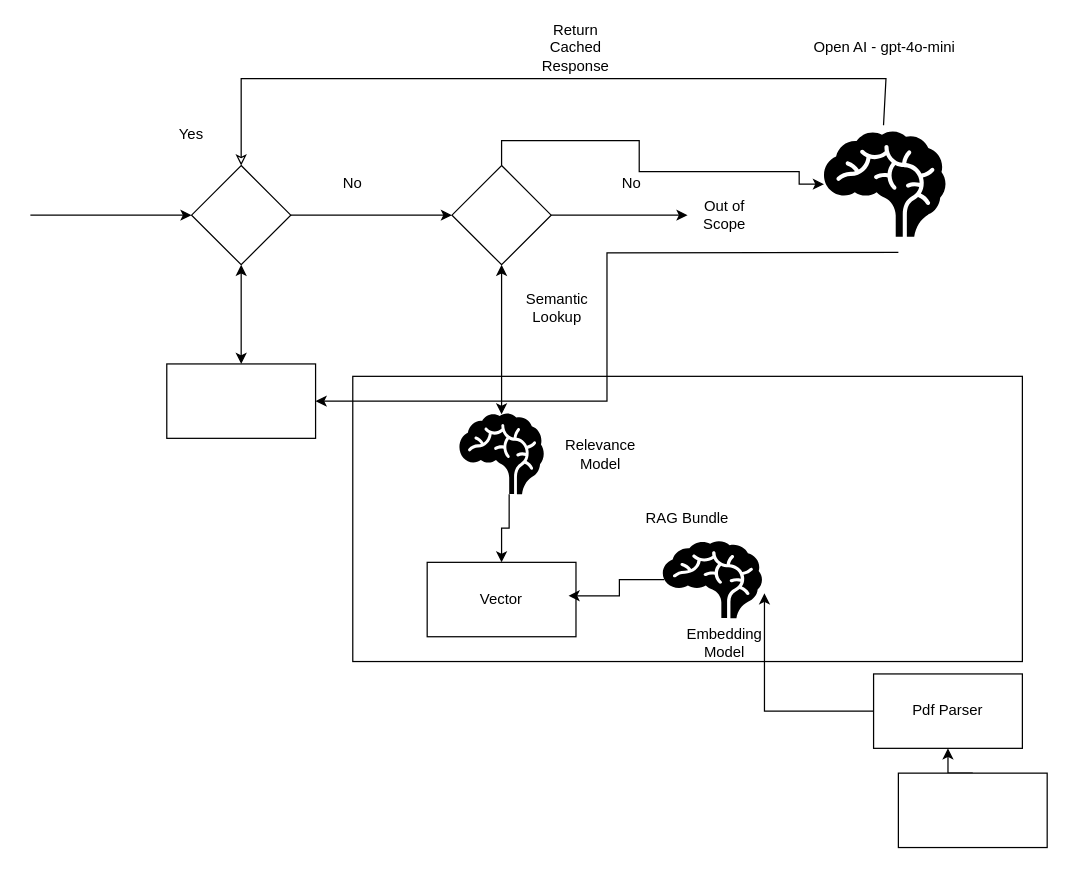
Image size: 1069x869. Some labels were removed from this diagram. The shapes that lost their labels are listed below. From the top down, each one's centre as x and y in pixels, then its label:
At point (241, 400): "Semantic Cache".
At point (972, 810): "Company Data Set".
